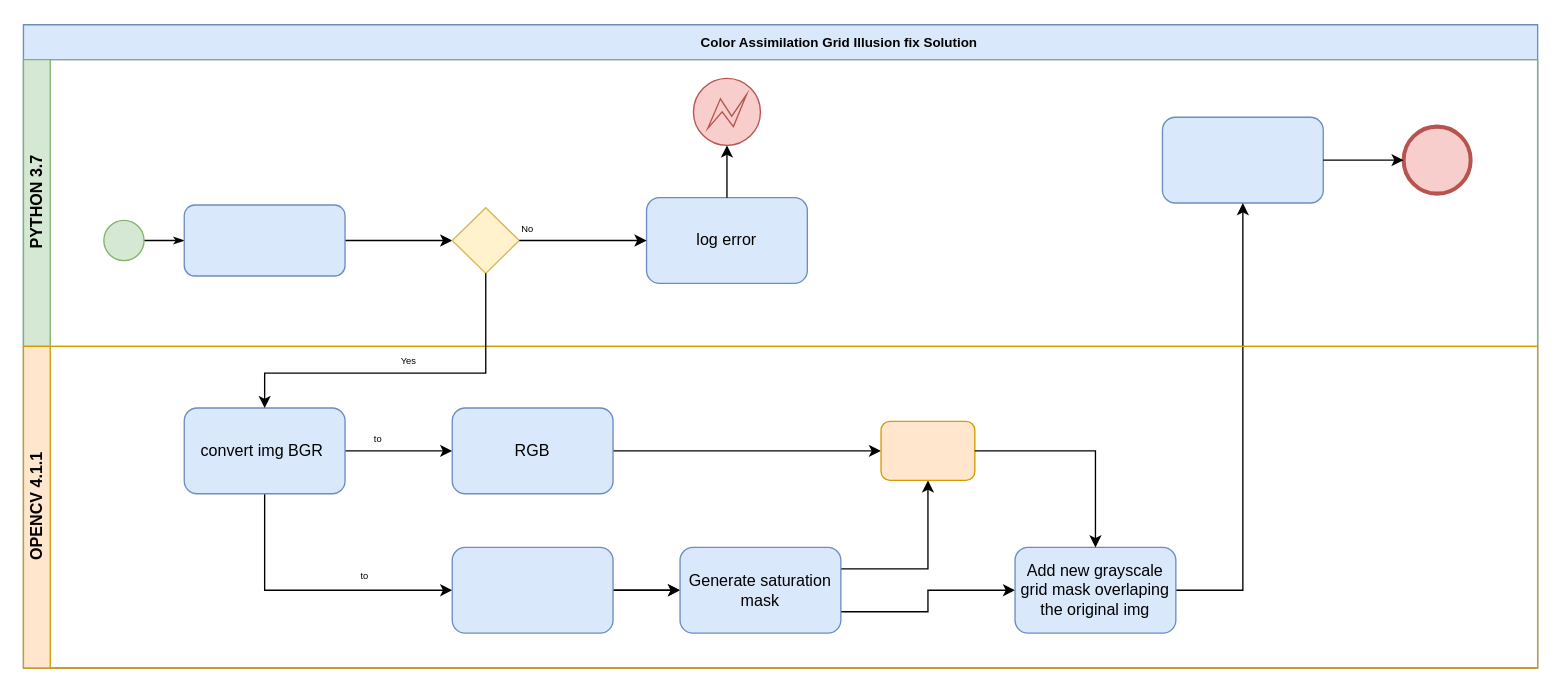
This 1561x691 diagram has some shape labels left out. Here are the shapes that lost their labels. From the top down, the centre of each, then its label:
pixel 1242 159: show the output image
pixel 264 240: Load a grid edit image
pixel 927 450: subtract
pixel 532 589: HLS
